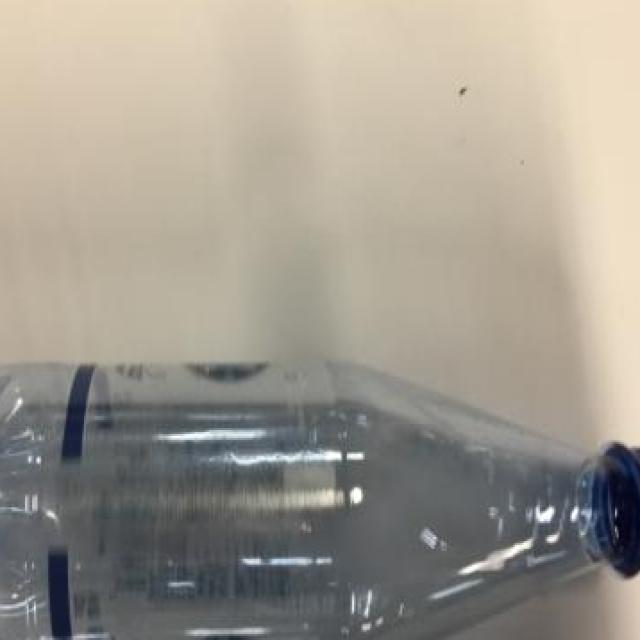organic: (0, 353, 635, 635)
